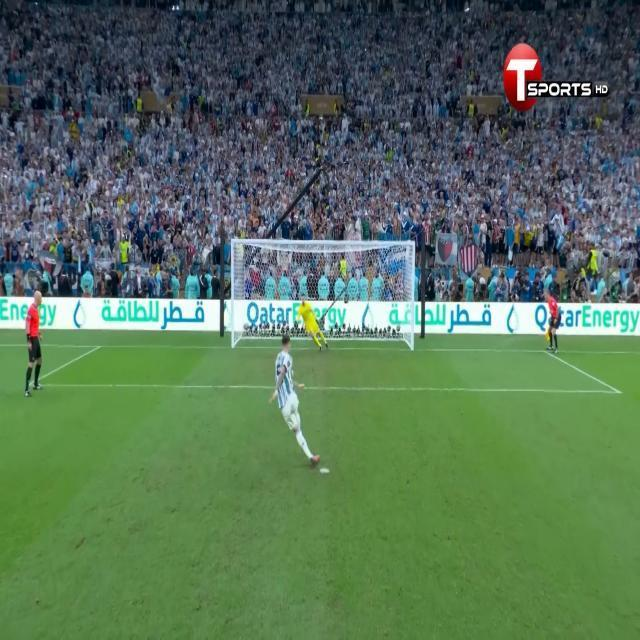goalkeeper: (292, 283, 330, 349)
player: (268, 327, 320, 465)
referee: (22, 286, 47, 403), (542, 286, 563, 356)
